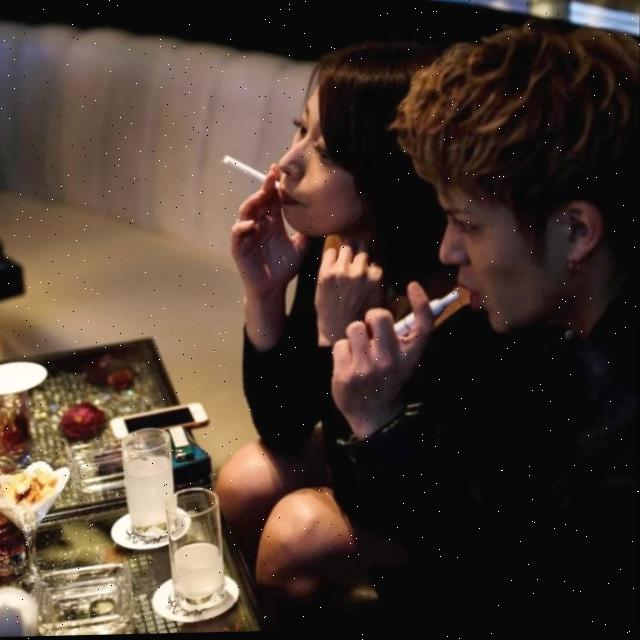cigarette: (224, 155, 280, 192)
vape: (393, 291, 459, 338)
